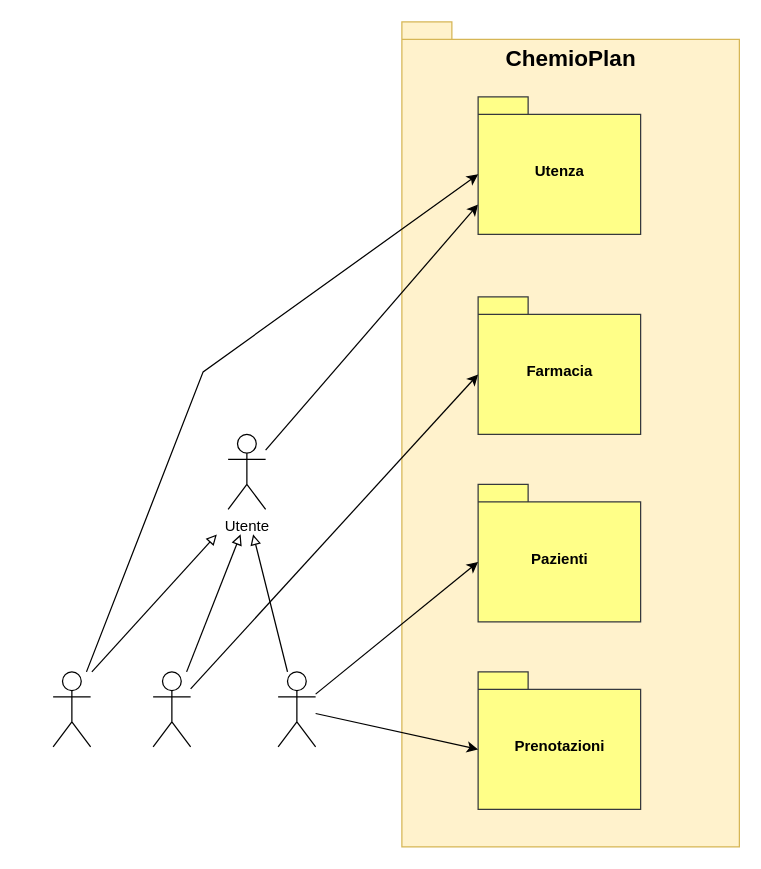
Some shapes in this 761 by 869 pixel diagram are drawn without their labels. The shapes that lost their labels are listed below. From the top down, each one's centre as x and y in pixels, then its label:
At pixel 71 709: "Amministratore".
At pixel 171 709: "Farmacista".
At pixel 296 709: "Dottore".
